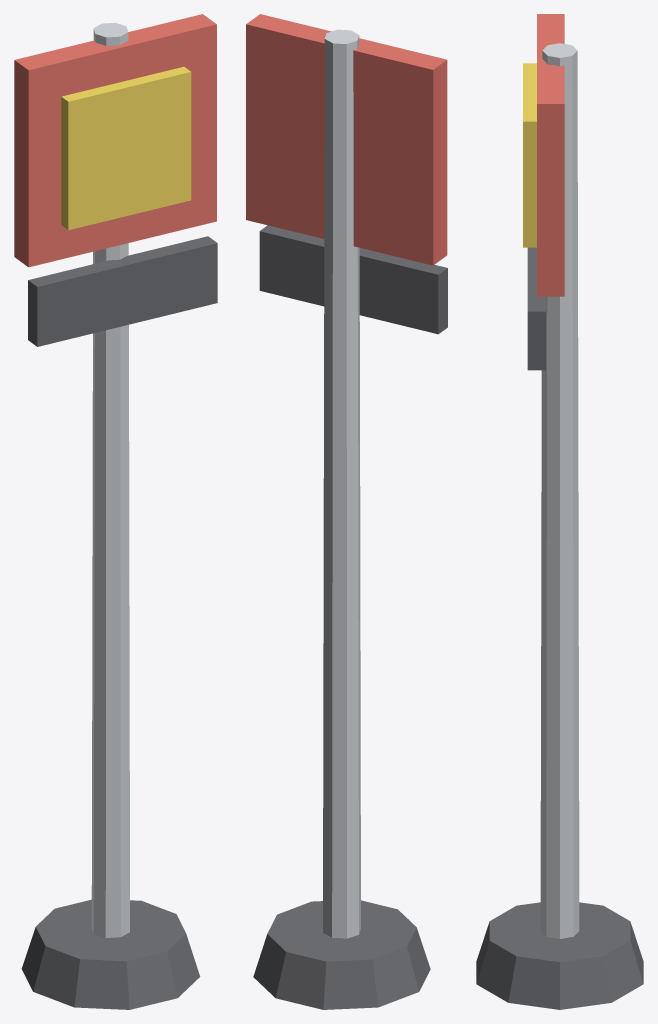
The model's file is street-food-market-and-food-trucks-stall-number-sign-99e7d623.glb.
3 renders of one model, left to right at view 1: azimuth 30°, elevation 25°; view 2: azimuth 150°, elevation 25°; view 3: azimuth 270°, elevation 25°, orthographic. The views are drawn at different scales.
Visible parts, largest first — view 1: stall-number-sign-charcoal, stall-number-sign-scarlet, stall-number-sign-steel, stall-number-sign-canary; view 2: stall-number-sign-scarlet, stall-number-sign-steel, stall-number-sign-charcoal; view 3: stall-number-sign-steel, stall-number-sign-charcoal, stall-number-sign-scarlet, stall-number-sign-canary.
Boxes of the visible parts, box(x1,y1,x2,y2) form: stall-number-sign-charcoal: box(21, 236, 217, 1009); stall-number-sign-scarlet: box(14, 14, 216, 267); stall-number-sign-steel: box(91, 22, 129, 937); stall-number-sign-canary: box(61, 66, 191, 230); stall-number-sign-scarlet: box(246, 14, 447, 265); stall-number-sign-steel: box(323, 29, 360, 938); stall-number-sign-charcoal: box(253, 225, 447, 1009); stall-number-sign-steel: box(540, 43, 579, 938); stall-number-sign-charcoal: box(476, 247, 643, 1009); stall-number-sign-scarlet: box(537, 14, 564, 296); stall-number-sign-canary: box(523, 63, 536, 247).
Bounding box in the file's own units: 0.46 × 2.2 × 0.3614.
